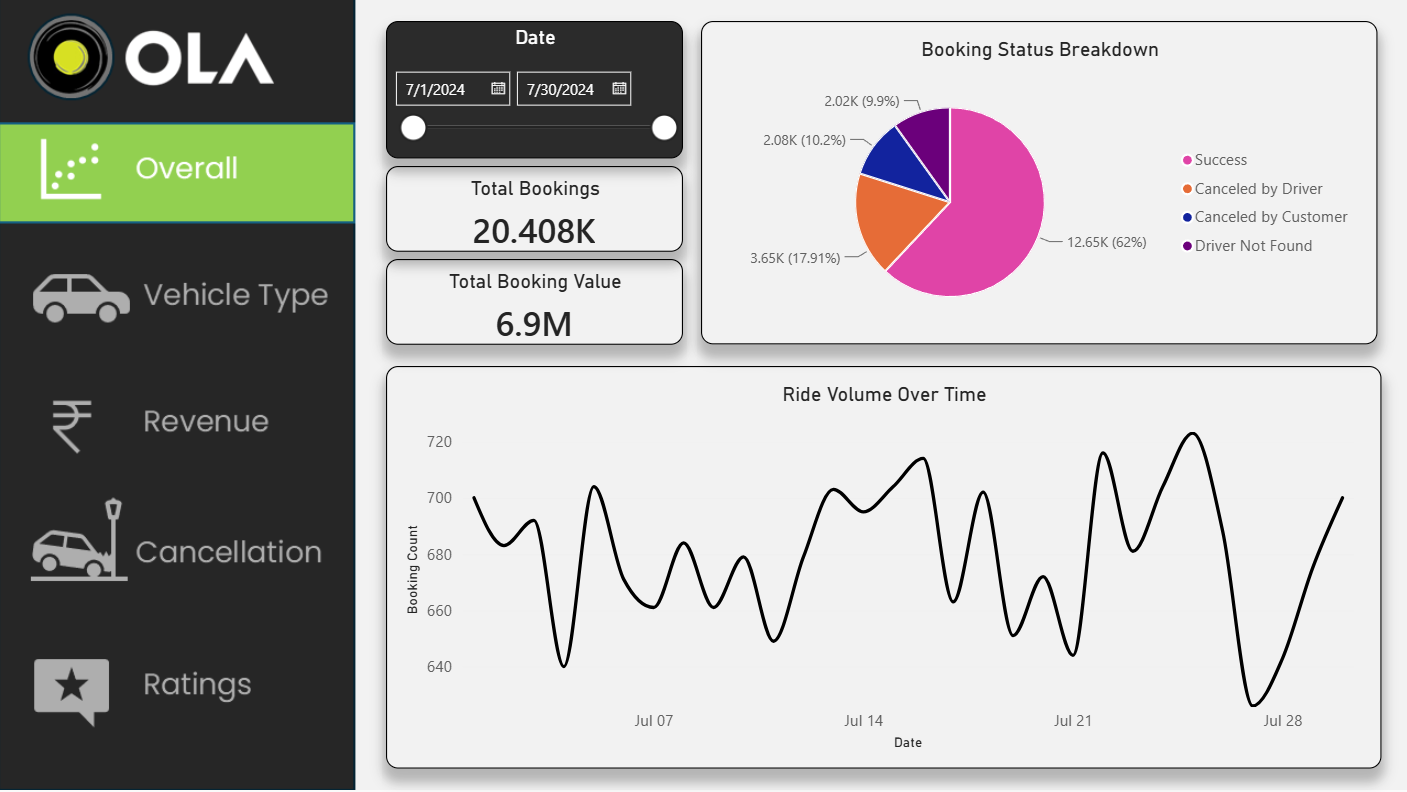

The dashboard page shown, as its layout file describes it:
{"tool":"powerbi","page":{"name":"OVERALL","canvas":[1280,720],"ordinal":0},"visuals":[{"type":"actionButton","box":[0,213.6,322.9,91.1],"z":0},{"type":"actionButton","box":[0,341.8,322.9,91.1],"z":1000},{"type":"actionButton","box":[0,446.4,322.7,90.9],"z":2000},{"type":"actionButton","box":[0,580.9,322.7,90.9],"z":3000},{"type":"actionButton","box":[0,111.8,322.7,90.9],"z":4000},{"type":"lineChart","title":"Ride  Volume Over Time","fields":{"Category":["July.Date"],"Y":["CountNonNull(July.Booking_ID)"]},"box":[351.4,333,904.6,366.1],"z":5000},{"type":"pieChart","title":"Booking  Status Breakdown ","fields":{"Category":["July.Booking_Status"],"Y":["CountNonNull(July.Booking_Status)"]},"box":[638.5,19.3,614.7,294.5],"z":6000},{"type":"slicer","title":"Date","fields":{"Values":["July.Date"]},"box":[351.4,19.3,269.7,124.8],"z":7000},{"type":"cardVisual","title":"Total Bookings","fields":{"Data":["Count(July.Booking_ID)"]},"box":[351.4,150.5,269.7,78],"z":8000},{"type":"cardVisual","title":"Total Booking Value","fields":{"Data":["Sum(July.Booking_Value)"]},"box":[351.4,235.8,269.7,78],"z":9000}]}

Visuals, with their boxes in screenshot pixels (x1, y1, x2, y2), scaled from the page's 1280x720 canvas onto the 1407x792 screenshot:
actionButton: detection(0, 235, 355, 335)
actionButton: detection(0, 376, 355, 476)
actionButton: detection(0, 491, 355, 591)
actionButton: detection(0, 639, 355, 739)
actionButton: detection(0, 123, 355, 223)
"Ride  Volume Over Time" lineChart: detection(386, 366, 1381, 769)
"Booking  Status Breakdown " pieChart: detection(702, 21, 1378, 345)
"Date" slicer: detection(386, 21, 683, 159)
"Total Bookings" cardVisual: detection(386, 166, 683, 251)
"Total Booking Value" cardVisual: detection(386, 259, 683, 345)
